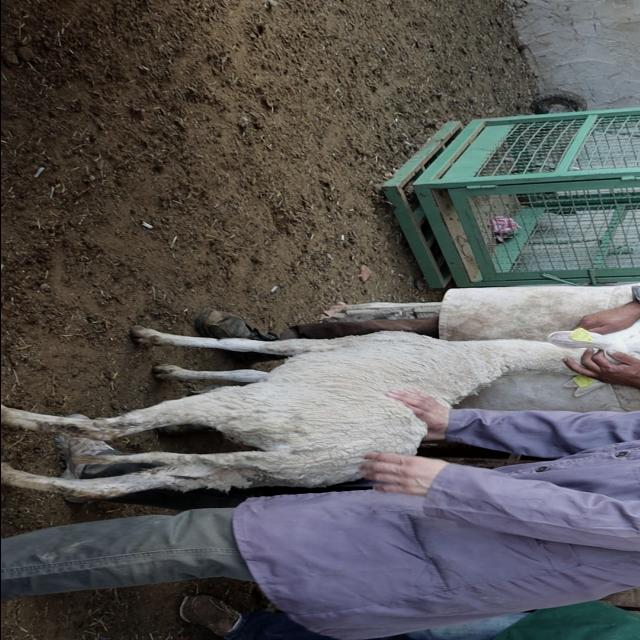Score_1: (1, 319, 640, 497)
